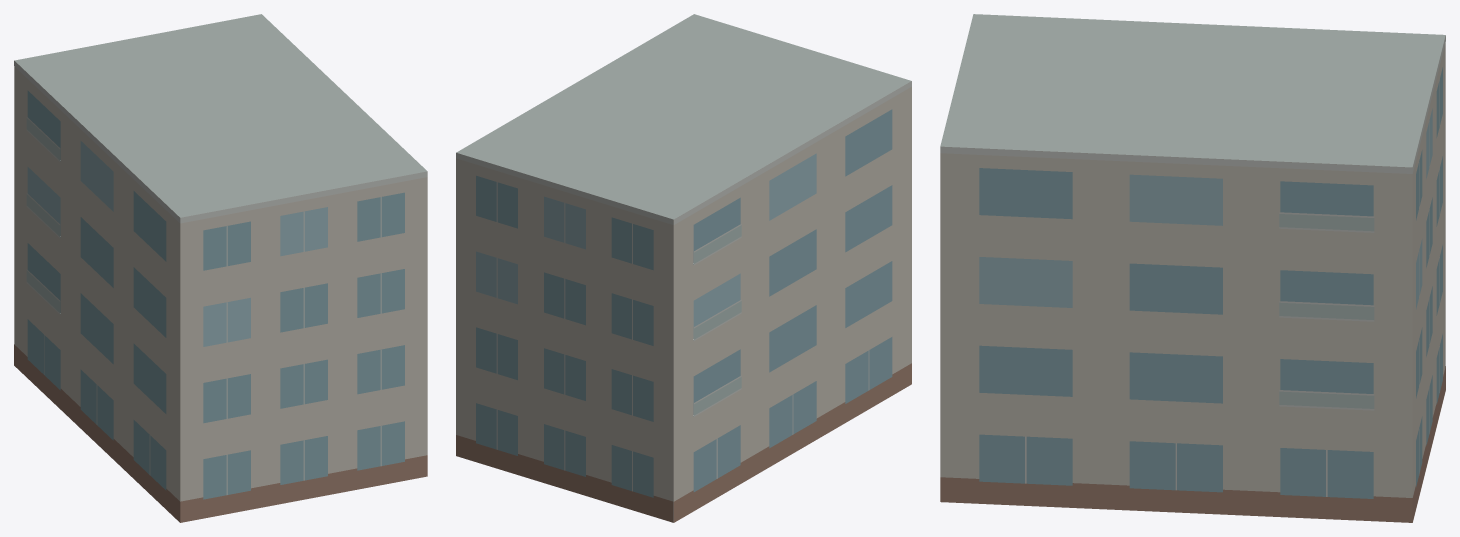
Rendered from survey-upis-32798498.glb.
3 renders of one model, left to right at view 1: azimuth 30°, elevation 25°; view 2: azimuth 150°, elevation 25°; view 3: azimuth 270°, elevation 25°, orthographic. The views are drawn at different scales.
Parts seen in each view (by area): view 1: survey-upis-32798498.tmp; view 2: survey-upis-32798498.tmp; view 3: survey-upis-32798498.tmp.
Boxes of the visible parts, <box> form: survey-upis-32798498.tmp: <box>14,14,427,522</box>; survey-upis-32798498.tmp: <box>456,14,911,522</box>; survey-upis-32798498.tmp: <box>940,14,1445,522</box>.
Bounding box in the file's own units: 12.14 × 13.1 × 16.9.
